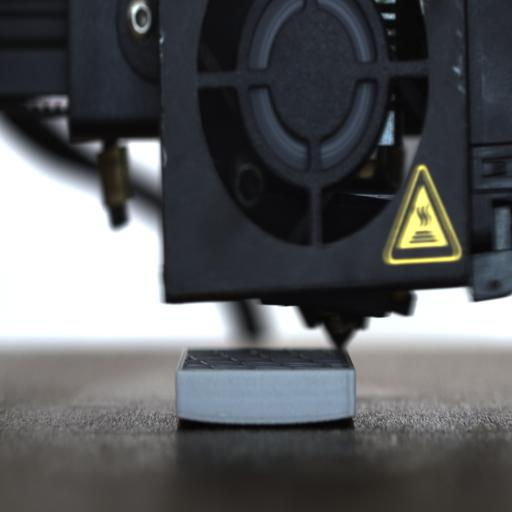warp: (167, 401, 224, 435), (316, 401, 364, 431)
